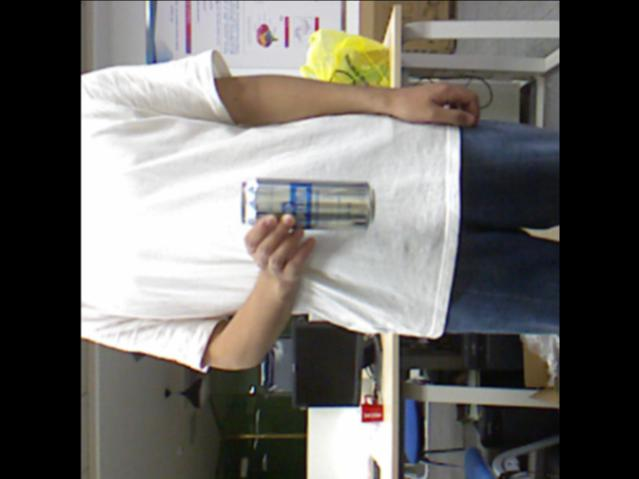metal: (241, 178, 373, 227)
